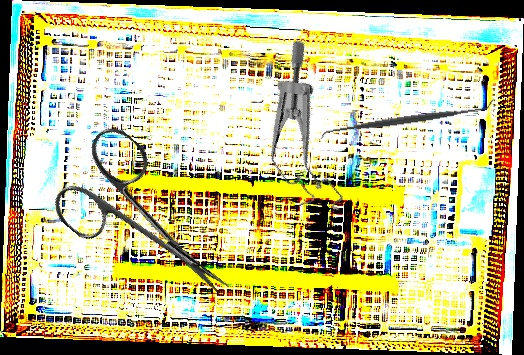Iris Scissors: (40, 120, 262, 331)
Spatula Surgical: (318, 97, 497, 142)
Speculum: (220, 37, 394, 229)
